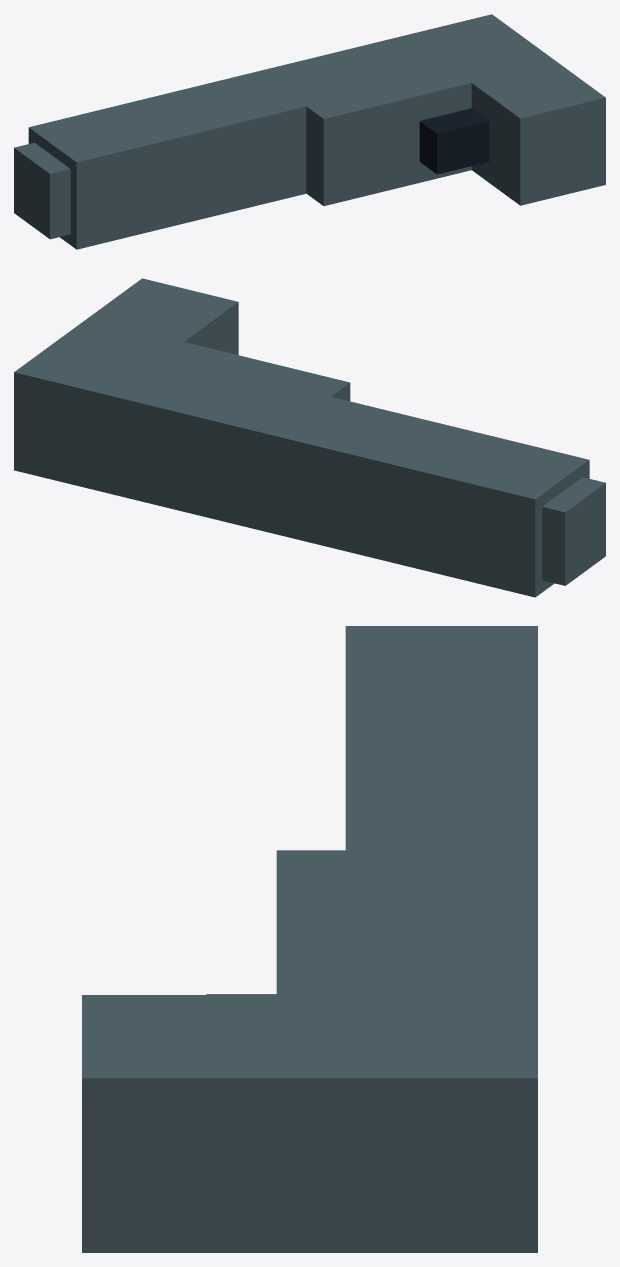
File: (Msh)Shotgun.fbx
3 views of the same model, one above another, from view 1: azimuth 30°, elevation 25°; view 2: azimuth 150°, elevation 25°; view 3: azimuth 270°, elevation 25° (orthographic). The views are drawn at different scales.
Parts seen in each view (by area): view 1: shotgun; view 2: shotgun; view 3: shotgun.
Part boxes in pixels (box(x1,y1,x2,y2)): shotgun: box(14, 14, 605, 249); shotgun: box(14, 278, 605, 597); shotgun: box(82, 626, 537, 1252).
Size of the model in its own units: 1161 by 200 by 474.
